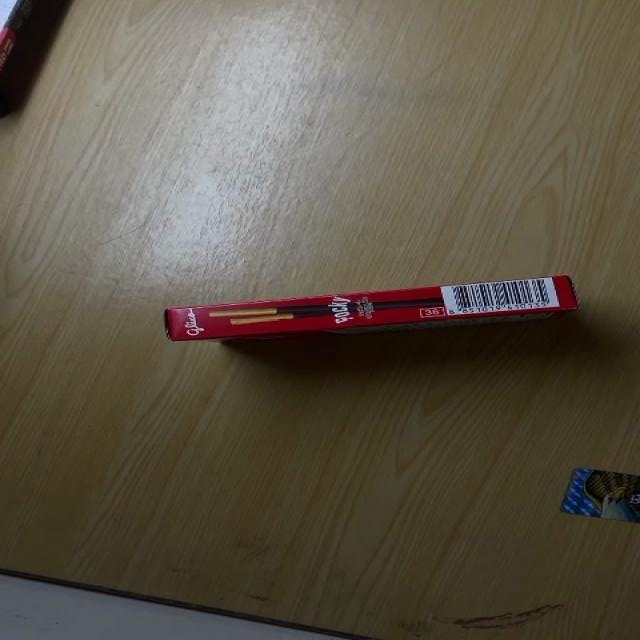Pocky: (162, 272, 576, 343)
